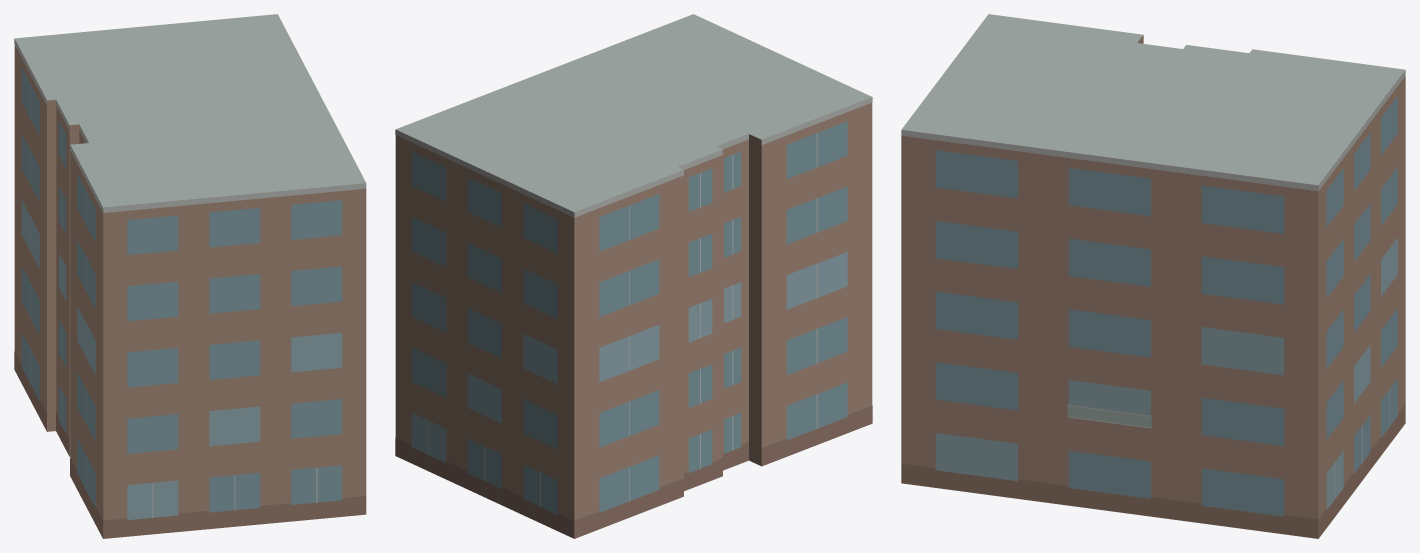
File: survey-upis-32869532.glb
3 views of the same model, side by side, from view 1: azimuth 30°, elevation 25°; view 2: azimuth 150°, elevation 25°; view 3: azimuth 270°, elevation 25° (orthographic). The views are drawn at different scales.
Parts seen in each view (by area): view 1: survey-upis-32869532.tmp; view 2: survey-upis-32869532.tmp; view 3: survey-upis-32869532.tmp.
Part boxes in pixels (x1,y1,x2,y2): survey-upis-32869532.tmp: [14, 14, 366, 538]; survey-upis-32869532.tmp: [395, 14, 872, 538]; survey-upis-32869532.tmp: [901, 14, 1405, 538].
Bounding box in the file's own units: 15.19 × 14.6 × 18.89.
